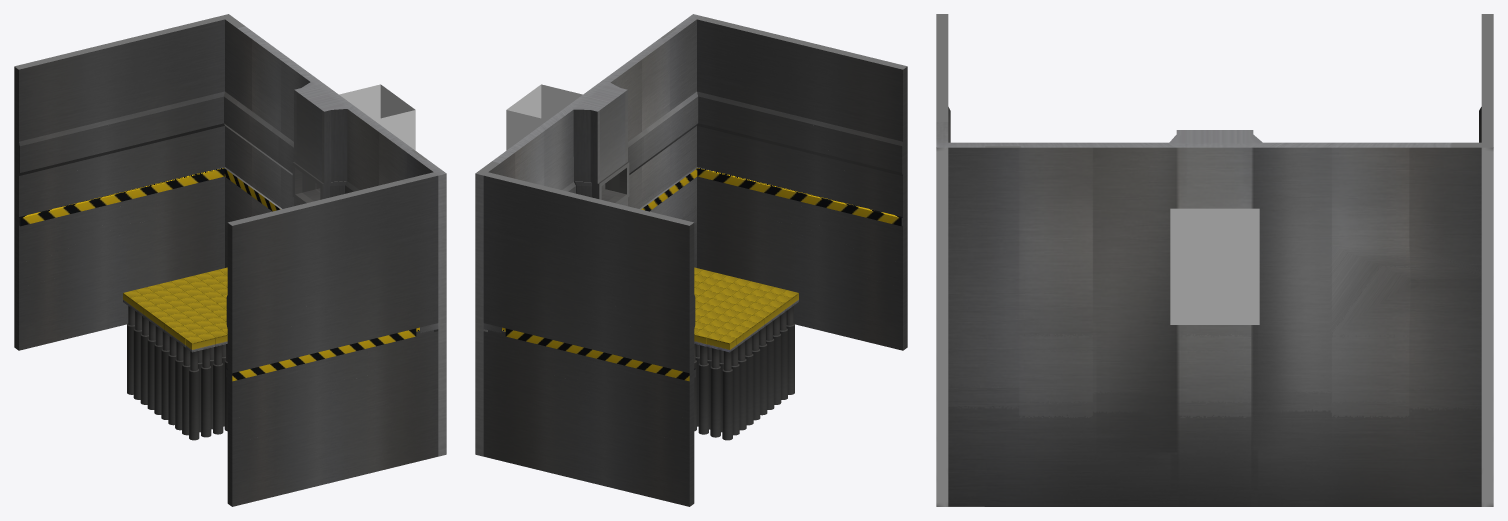
Rendered from Map.fbx.
3 renders of one model, left to right at view 1: azimuth 30°, elevation 25°; view 2: azimuth 150°, elevation 25°; view 3: azimuth 270°, elevation 25°, orthographic. The views are drawn at different scales.
Visible parts, largest first — view 1: Walls, Cube, floor.090, floor.092, floor.091, floor.040, floor.050, floor.030, floor.010, floor.020, floor.070, floor.060 (+2 smaller); view 2: Walls, Cube, floor, floor.001, floor.002, floor.020, floor.040, floor.030, floor.050, floor.060, floor.070, floor.010 (+2 smaller); view 3: Walls, Cube.
Part boxes in pixels (bbox=[...]): Walls: bbox=[14, 14, 446, 506]; Cube: bbox=[339, 84, 415, 150]; floor.090: bbox=[185, 335, 203, 440]; floor.092: bbox=[209, 329, 227, 434]; floor.091: bbox=[197, 332, 215, 437]; floor.040: bbox=[150, 310, 168, 414]; floor.050: bbox=[157, 315, 175, 419]; floor.030: bbox=[143, 305, 161, 409]; floor.010: bbox=[130, 295, 148, 399]; floor.020: bbox=[137, 300, 155, 404]; floor.070: bbox=[171, 325, 189, 430]; floor.060: bbox=[164, 320, 182, 425]; Walls: bbox=[475, 14, 907, 506]; Cube: bbox=[506, 84, 582, 150]; floor: bbox=[718, 335, 736, 440]; floor.001: bbox=[706, 332, 724, 437]; floor.002: bbox=[694, 329, 712, 434]; floor.020: bbox=[732, 325, 750, 430]; floor.040: bbox=[746, 315, 764, 420]; floor.030: bbox=[739, 320, 757, 425]; floor.050: bbox=[753, 310, 771, 415]; floor.060: bbox=[760, 305, 778, 409]; floor.070: bbox=[766, 300, 784, 404]; floor.010: bbox=[725, 330, 743, 435]; Walls: bbox=[936, 14, 1493, 506]; Cube: bbox=[1170, 208, 1259, 324].
Size of the model in its own units: 43.65 by 59.92 by 42.62.
Materials: 3 (2 with a texture image).
